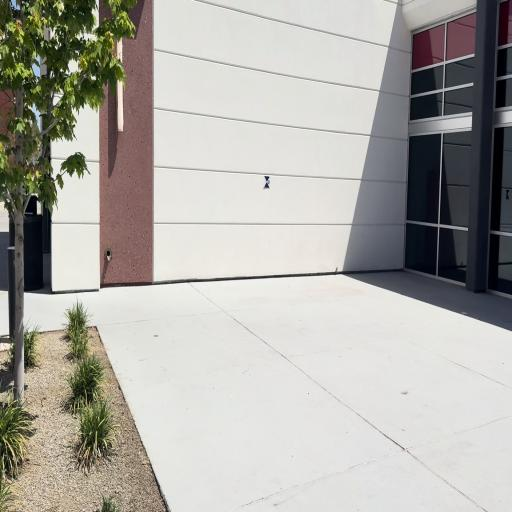target0: (264, 176, 270, 188)
